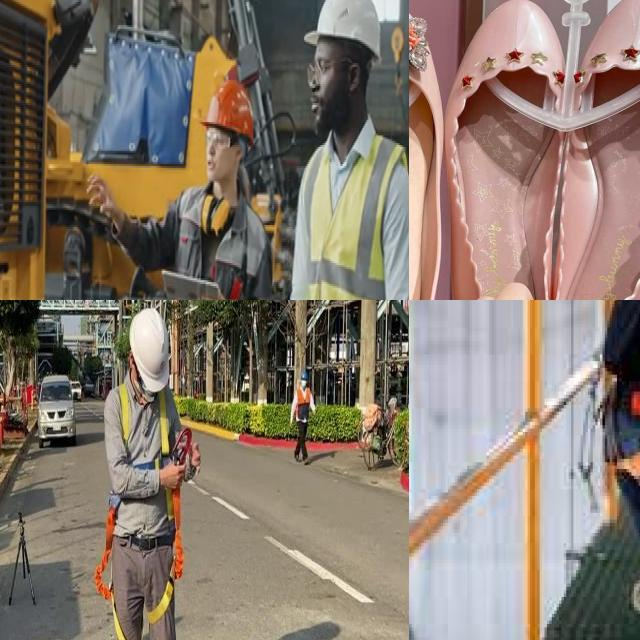Ear-protection: (201, 191, 231, 240)
Harness: (578, 300, 640, 526), (119, 383, 193, 470), (94, 499, 131, 640), (148, 489, 184, 624)
Sandals: (427, 0, 640, 300)
glasses: (300, 51, 351, 91), (202, 121, 240, 155)
head_helmet: (300, 0, 383, 64), (203, 70, 254, 151)
person: (282, 0, 409, 300), (160, 21, 275, 300)
vest: (296, 129, 409, 300)
